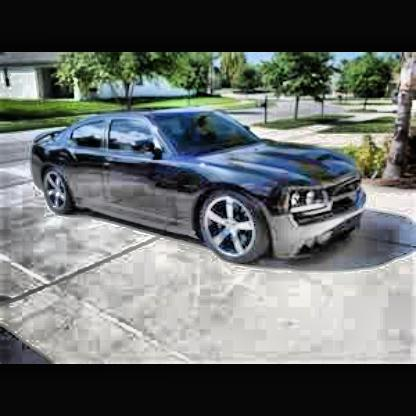Dodge Charger SRT-8 2009: (30, 107, 372, 269)
